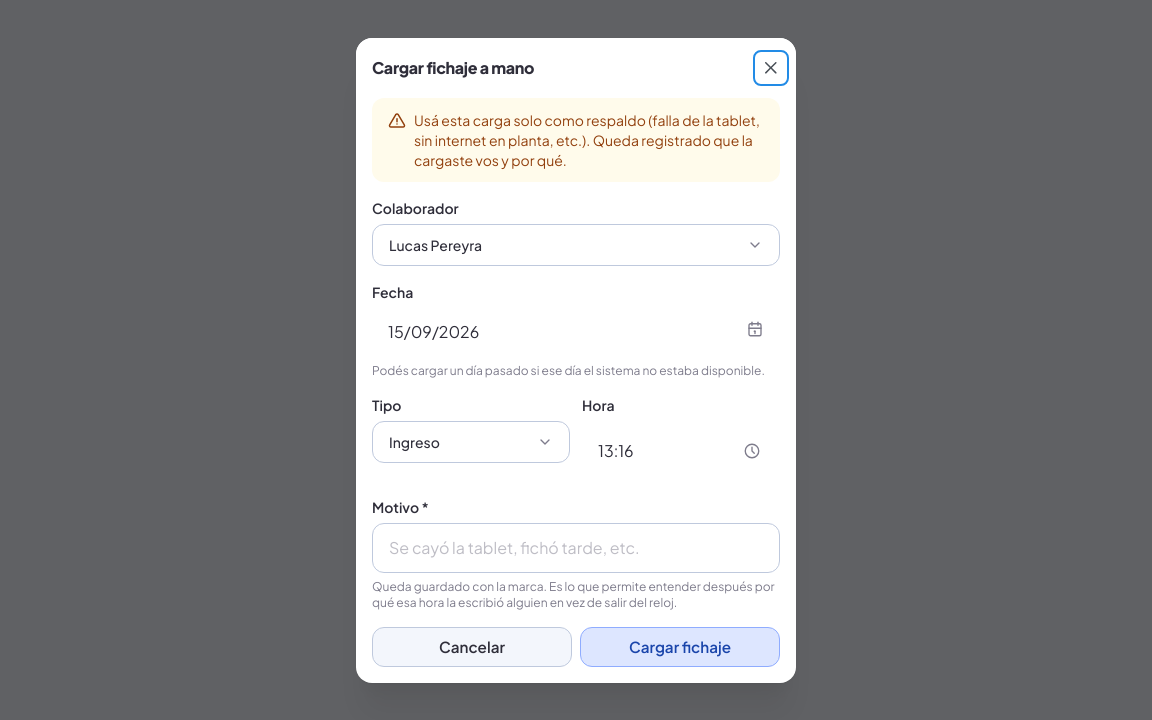
Test: FichajeManualModal: motivo › no carga la marca si el motivo está vacío
The image size is (1152, 720).
Step 1. Click the button "Cargar fichaje" → coordinates (680, 646), box 580,626 -> 780,666
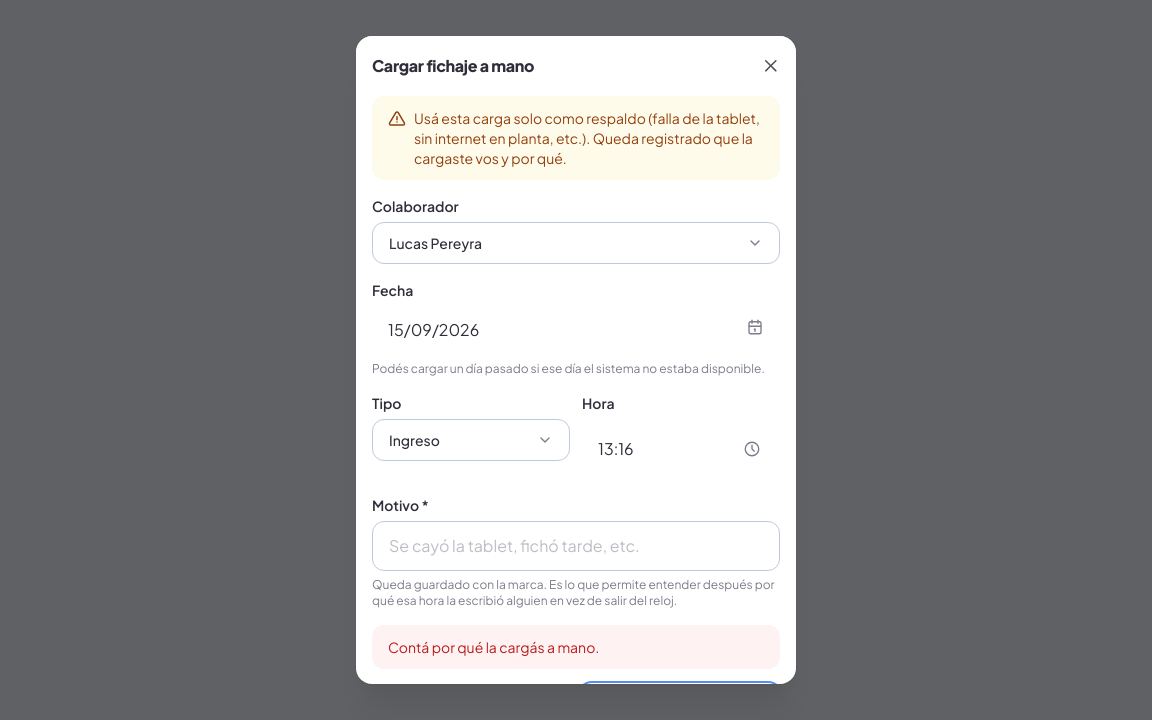
Now the text "Contá por qué la cargás a mano." is shown, box 372,625 -> 780,669
